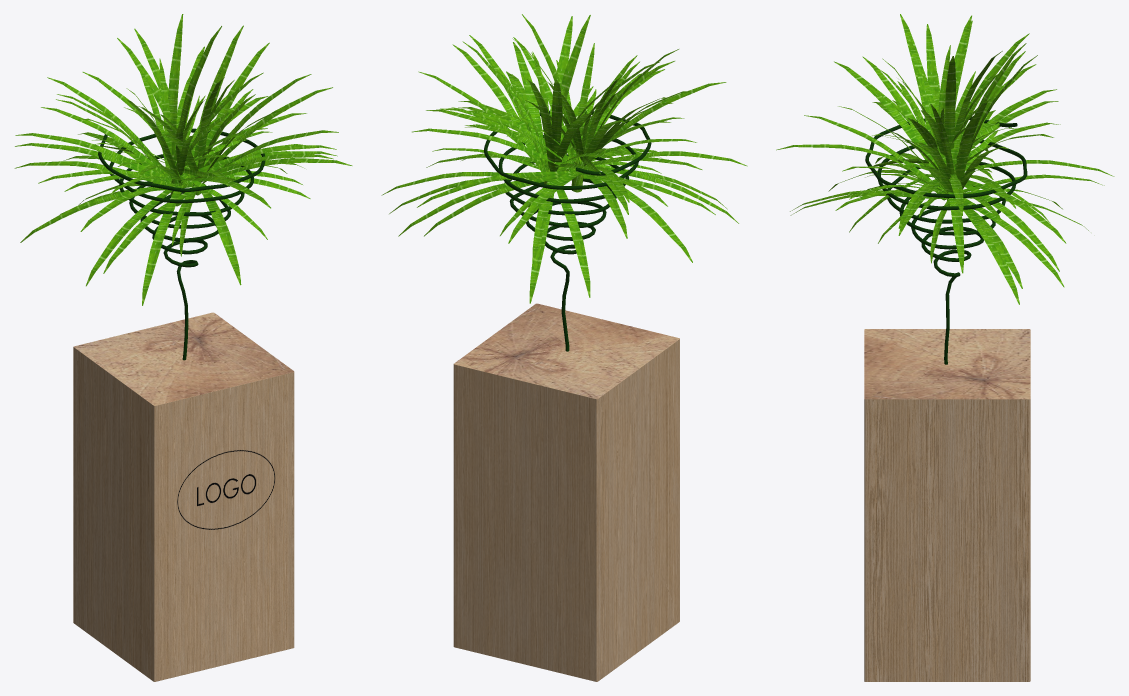
The picture shows the model from 3 angles, left to right: view 1: azimuth 30°, elevation 25°; view 2: azimuth 150°, elevation 25°; view 3: azimuth 270°, elevation 25°; orthographic projection. The views are drawn at different scales.
Visible parts, largest first — view 1: wood, Cube.002, spiral.001; view 2: wood, Cube.002, spiral.001; view 3: wood, Cube.002, spiral.001.
Part boxes in pixels (<box>): wood: <box>73,312,294,681</box>; Cube.002: <box>14,14,352,305</box>; spiral.001: <box>98,128,265,360</box>; wood: <box>453,303,679,681</box>; Cube.002: <box>381,14,747,303</box>; spiral.001: <box>484,110,651,351</box>; wood: <box>864,329,1030,681</box>; Cube.002: <box>776,14,1114,304</box>; spiral.001: <box>865,117,1027,364</box>.
Bounding box in the file's own units: 16.36 × 32.44 × 16.26.
5 materials, 4 textured.
